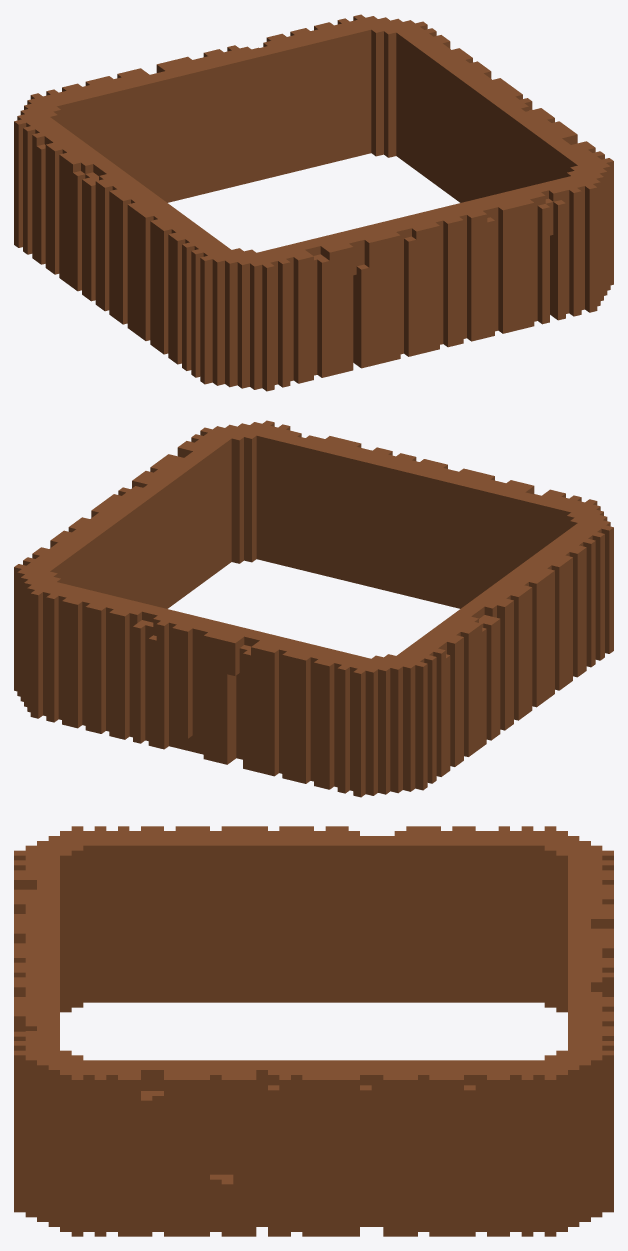
File: wood-0.obj
The picture shows the model from 3 angles, top to bottom: view 1: azimuth 30°, elevation 25°; view 2: azimuth 150°, elevation 25°; view 3: azimuth 270°, elevation 25°; orthographic projection. The views are drawn at different scales.
Bounding box in the file's own units: 5.2 × 1.5 × 5.2.
Materials: 1 (1 with a texture image).
